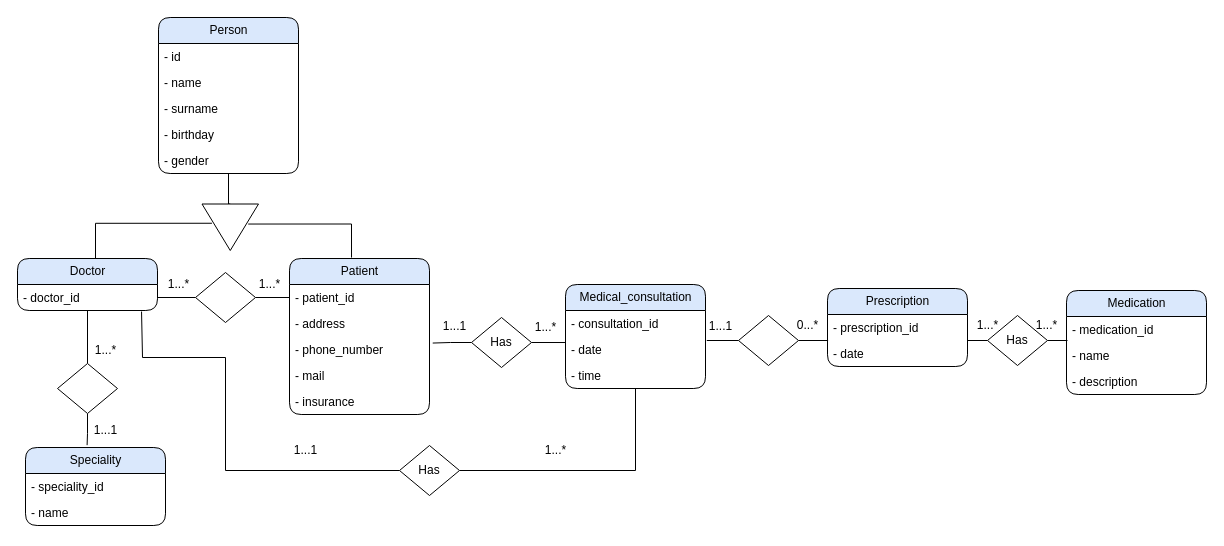
Image size: 1224x546. Some labels were removed from this diagram. Here are the shapes that lost their labels. From the top down, the centre of each, then its label:
At [225,297]: "Treats".
At [768,340]: "Generate".
At [87,388]: "Work".
